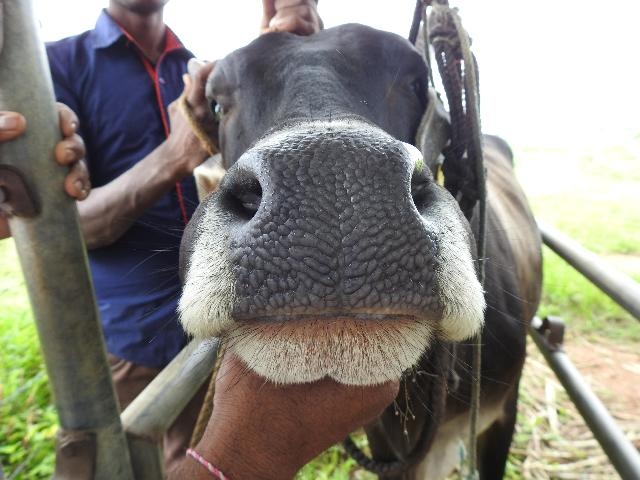Muzzle: (232, 142, 438, 314)
